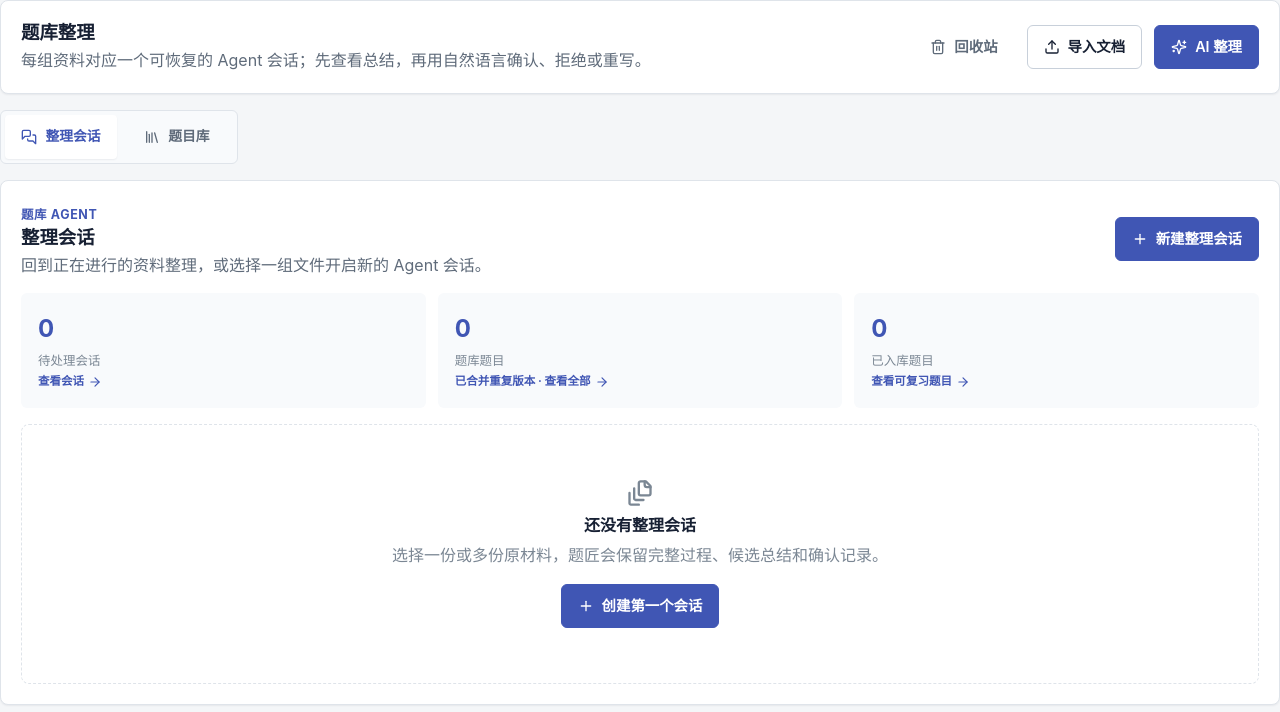
Test: QuestionCatalog › promotes a candidate through the update-active-version flow
Click the tab "题目库" at (177, 137), box top-left (121, 115), bottom-right (233, 159)
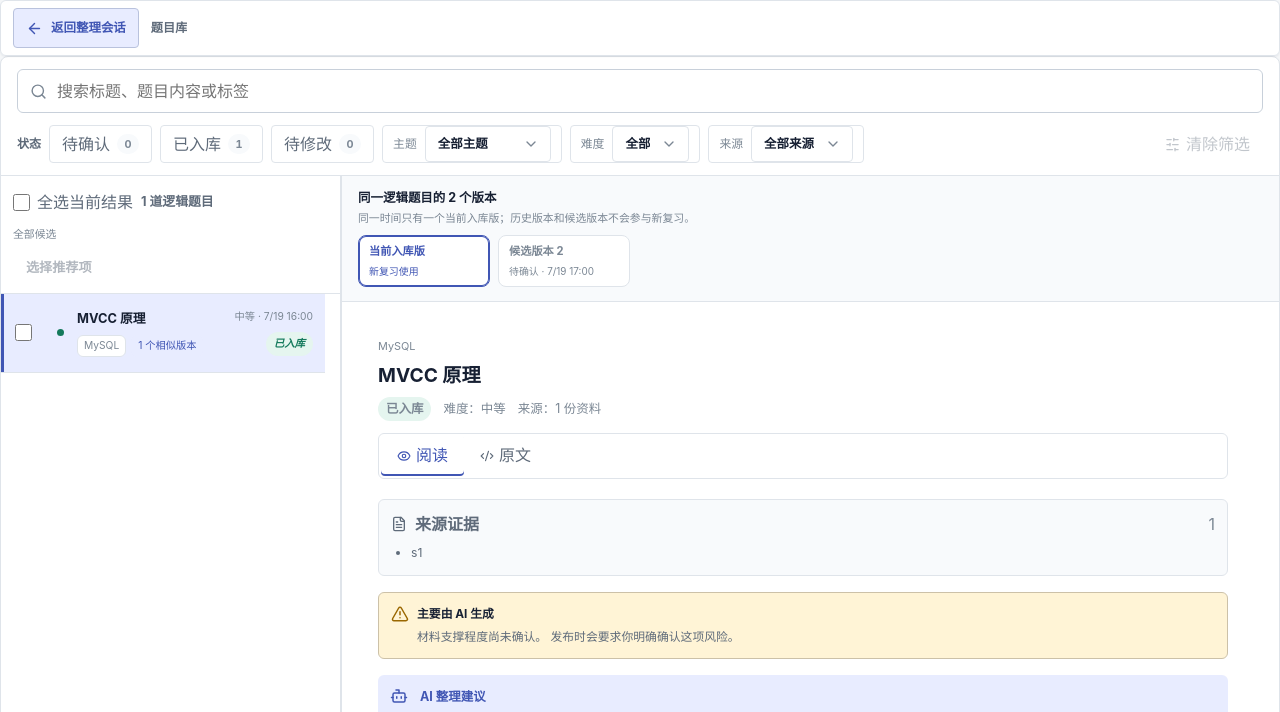
Click the button "候选版本 2 待确认 · 7/19 17:00" at (564, 261), box top-left (498, 235), bottom-right (630, 287)
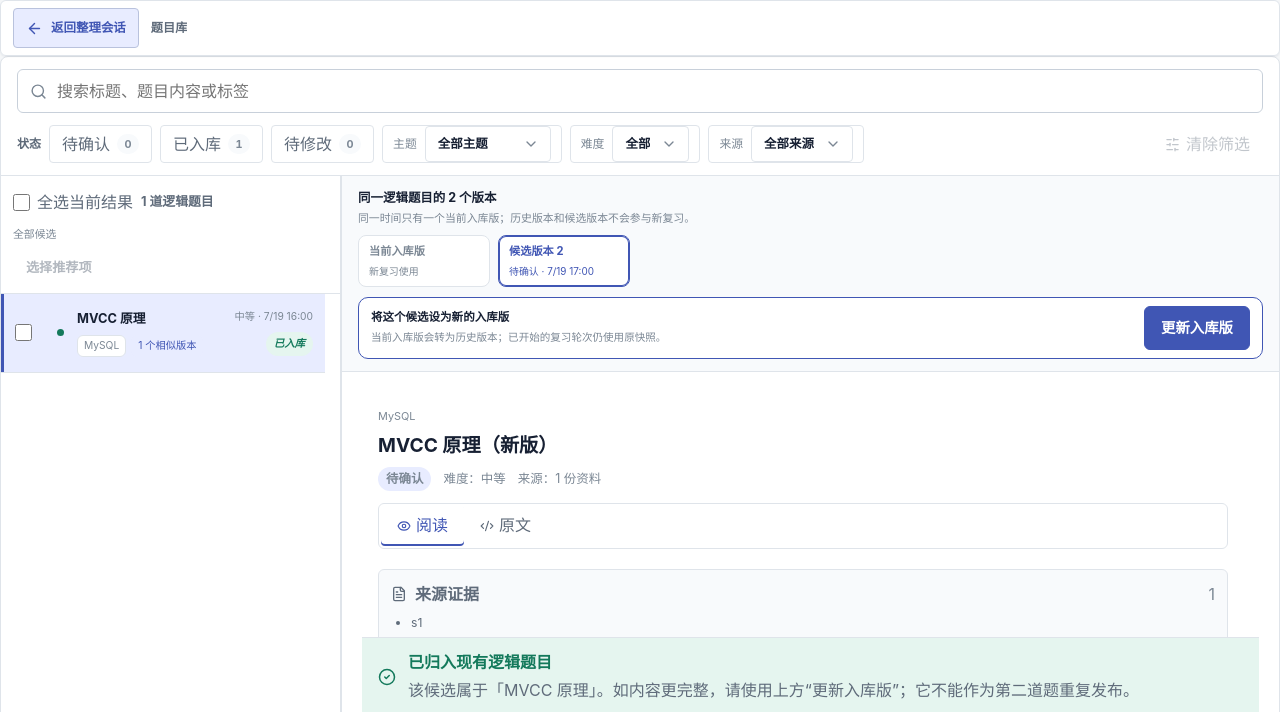
Click the button "更新入库版" at (1197, 328), box top-left (1144, 306), bottom-right (1250, 350)
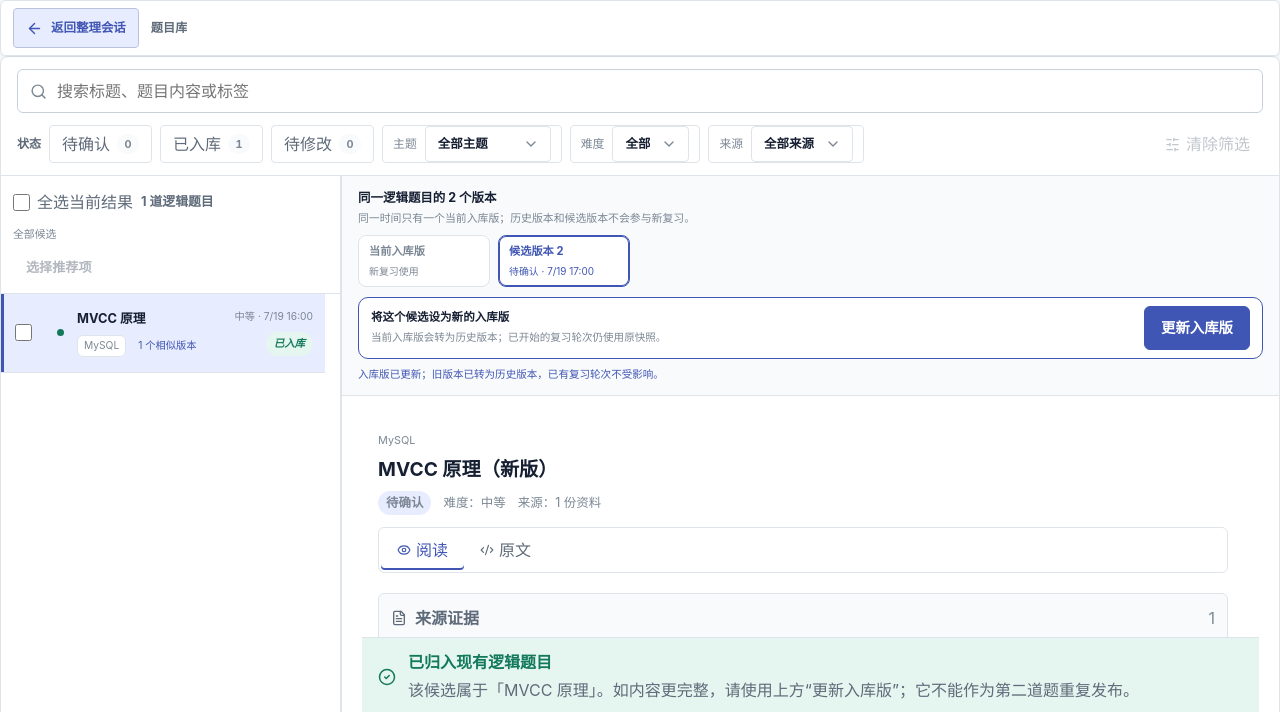
Now the text "入库版已更新；旧版本已转为历史版本，已有复习轮次不受影响。" is shown, box top-left (358, 368), bottom-right (664, 381)
